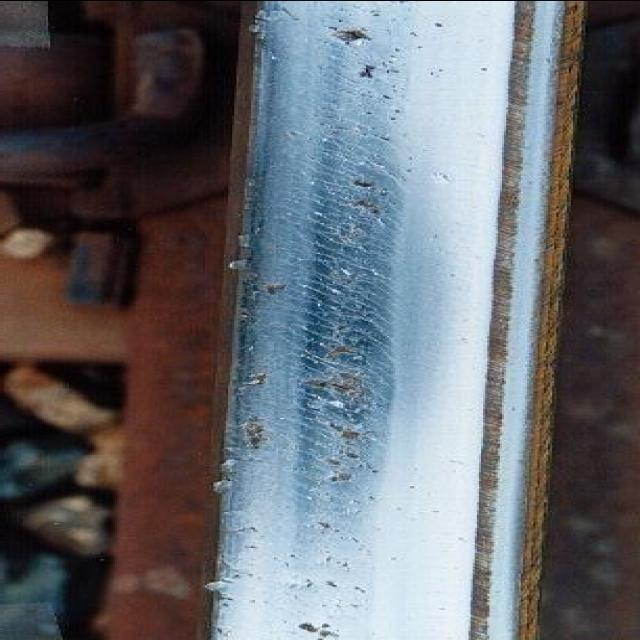squats_medium: (214, 2, 402, 626)
